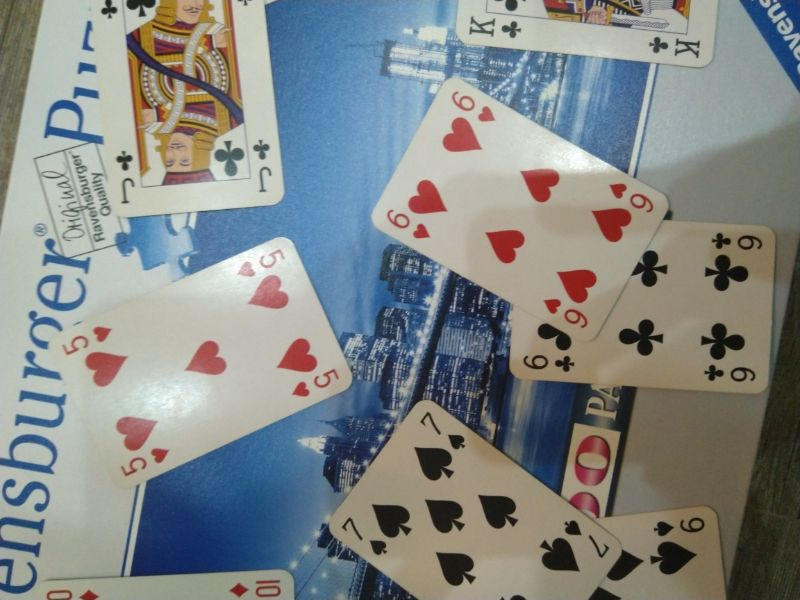5h: (287, 359, 346, 408), (233, 240, 291, 282), (117, 443, 178, 482), (58, 318, 116, 359)
6c: (698, 357, 764, 390), (706, 224, 770, 256), (521, 345, 582, 376)
6h: (380, 198, 437, 245), (537, 291, 596, 336), (443, 82, 500, 126), (604, 177, 658, 219)
7s: (337, 511, 395, 559), (414, 407, 472, 453), (559, 513, 612, 562)
9s: (648, 505, 711, 543)
Jc: (246, 134, 286, 198), (111, 146, 148, 213)
Kc: (641, 25, 707, 63), (463, 10, 528, 45)
Td: (224, 569, 287, 600)
